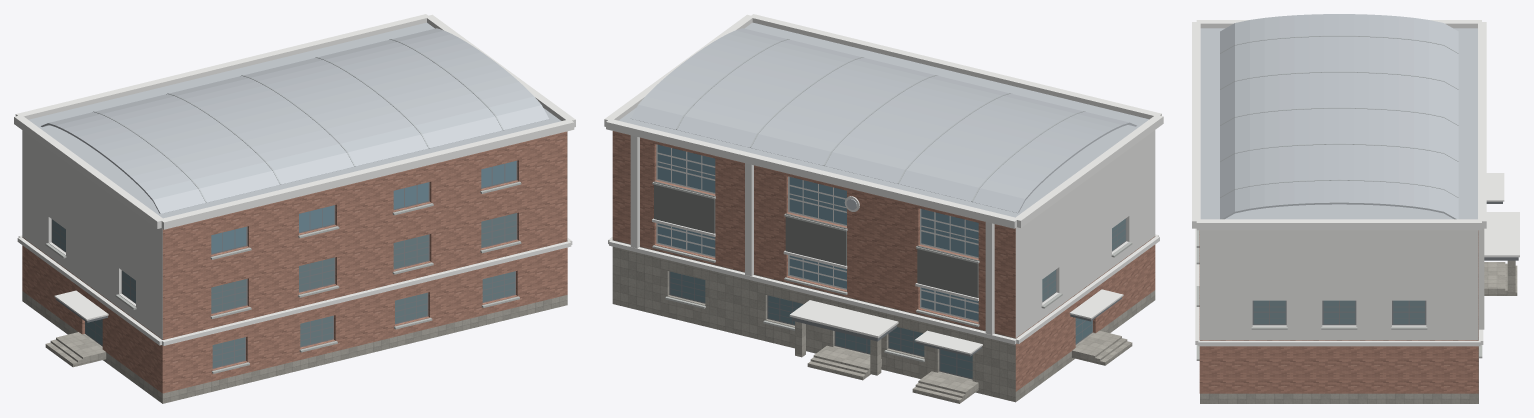
The picture shows the model from 3 angles, left to right: view 1: azimuth 30°, elevation 25°; view 2: azimuth 150°, elevation 25°; view 3: azimuth 270°, elevation 25°; orthographic projection.
Parts seen in each view (by area): view 1: naraemoe-gym__brick, naraemoe-gym__metalroof, naraemoe-gym__cap, naraemoe-gym__panel, naraemoe-gym__sideglass, naraemoe-gym__stone, naraemoe-gym__frame, naraemoe-gym__clerestoryglass, naraemoe-gym__sill, naraemoe-gym__steel, naraemoe-gym__stair-north-forecourt, naraemoe-gym__threshold-north-forecourt; view 2: naraemoe-gym__metalroof, naraemoe-gym__brick, naraemoe-gym__cap, naraemoe-gym__panel, naraemoe-gym__stone, naraemoe-gym__clerestoryglass, naraemoe-gym__opaque-panel, naraemoe-gym__glass, naraemoe-gym__sill, naraemoe-gym__frame, naraemoe-gym__steel, naraemoe-gym__stair-front (+7 smaller); view 3: naraemoe-gym__metalroof, naraemoe-gym__panel, naraemoe-gym__brick, naraemoe-gym__cap, naraemoe-gym__stone, naraemoe-gym__sideglass, naraemoe-gym__steel, naraemoe-gym__frame, naraemoe-gym__sill, naraemoe-gym__threshold-front, naraemoe-gym__stair-front.
Boxes of the visible parts, x1,y1,x2,y2 form: naraemoe-gym__brick: [22, 131, 567, 393]; naraemoe-gym__metalroof: [28, 22, 561, 218]; naraemoe-gym__cap: [14, 14, 575, 345]; naraemoe-gym__panel: [22, 130, 567, 339]; naraemoe-gym__sideglass: [52, 213, 516, 367]; naraemoe-gym__stone: [22, 291, 567, 403]; naraemoe-gym__frame: [51, 160, 517, 368]; naraemoe-gym__clerestoryglass: [211, 161, 516, 253]; naraemoe-gym__sill: [45, 181, 521, 373]; naraemoe-gym__steel: [93, 39, 503, 202]; naraemoe-gym__stair-north-forecourt: [45, 336, 88, 367]; naraemoe-gym__threshold-north-forecourt: [61, 332, 106, 363]; naraemoe-gym__metalroof: [619, 22, 1148, 217]; naraemoe-gym__brick: [612, 131, 1155, 391]; naraemoe-gym__cap: [604, 14, 1163, 354]; naraemoe-gym__panel: [630, 130, 1155, 337]; naraemoe-gym__stone: [612, 240, 1155, 402]; naraemoe-gym__clerestoryglass: [657, 144, 978, 320]; naraemoe-gym__opaque-panel: [654, 181, 978, 297]; naraemoe-gym__glass: [670, 271, 1092, 378]; naraemoe-gym__sill: [652, 182, 1132, 362]; naraemoe-gym__frame: [669, 218, 1126, 379]; naraemoe-gym__steel: [676, 39, 1085, 201]; naraemoe-gym__stair-front: [807, 353, 870, 380]; naraemoe-gym__metalroof: [1200, 14, 1477, 219]; naraemoe-gym__panel: [1200, 228, 1484, 339]; naraemoe-gym__brick: [1199, 230, 1478, 393]; naraemoe-gym__cap: [1192, 20, 1519, 346]; naraemoe-gym__stone: [1200, 260, 1515, 403]; naraemoe-gym__sideglass: [1253, 300, 1424, 324]; naraemoe-gym__steel: [1220, 35, 1458, 197]; naraemoe-gym__frame: [1252, 300, 1426, 325]; naraemoe-gym__sill: [1196, 230, 1482, 360]; naraemoe-gym__threshold-front: [1484, 262, 1499, 295]; naraemoe-gym__stair-front: [1499, 262, 1517, 295].
Size of the model in its own units: 32.97 by 14.06 by 21.14.
14 materials, 2 textured.
